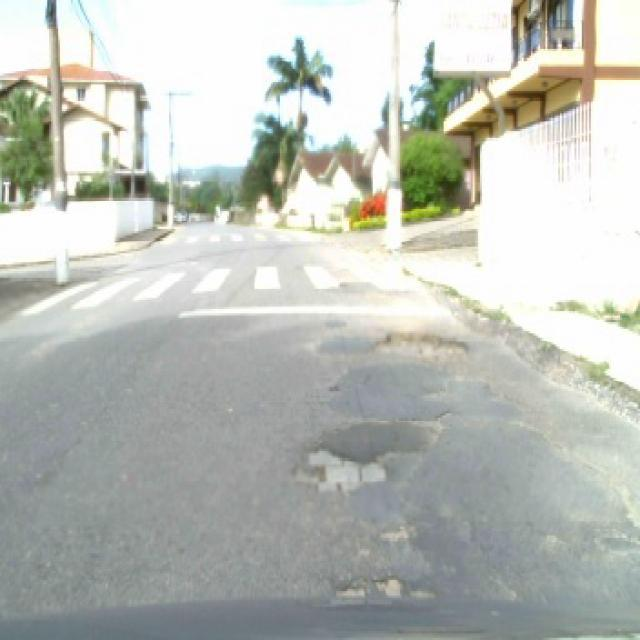Poth-hole: (504, 416, 636, 536), (291, 440, 389, 496), (389, 404, 458, 454), (368, 327, 470, 358), (333, 571, 436, 596), (376, 524, 418, 540)
